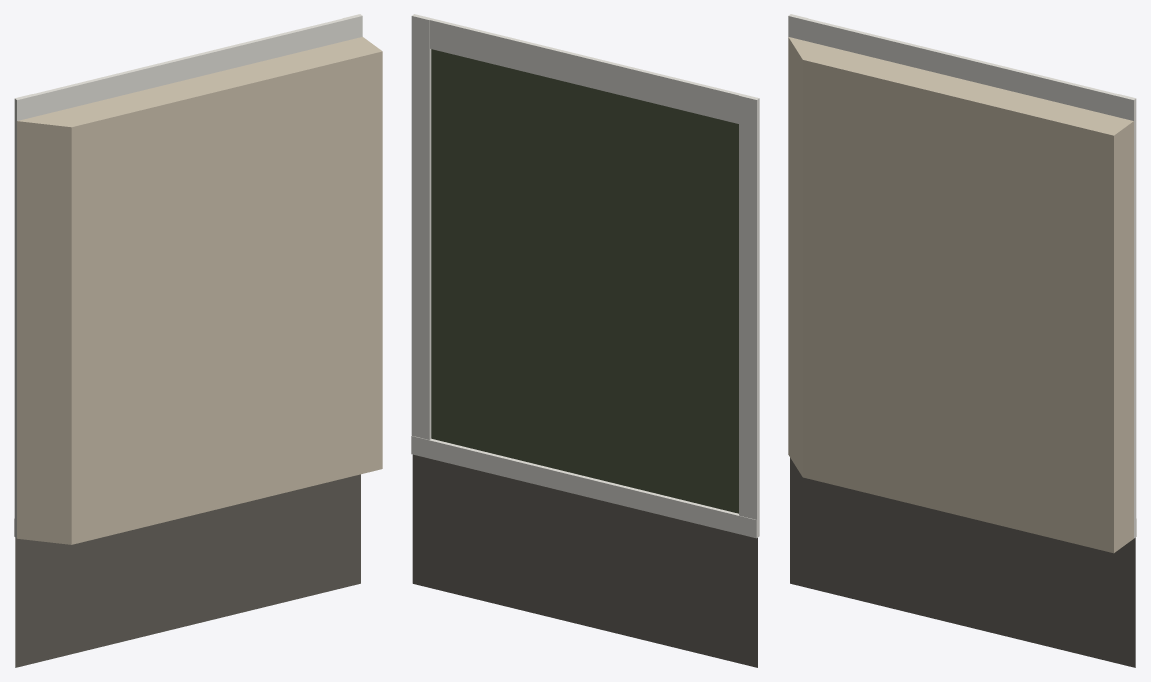
Rendered from wall-08.glb.
3 renders of one model, left to right at view 1: azimuth 30°, elevation 25°; view 2: azimuth 150°, elevation 25°; view 3: azimuth 330°, elevation 25°, orthographic.
Bounding box in the file's own units: 6.93 × 10.9 × 0.7929.
